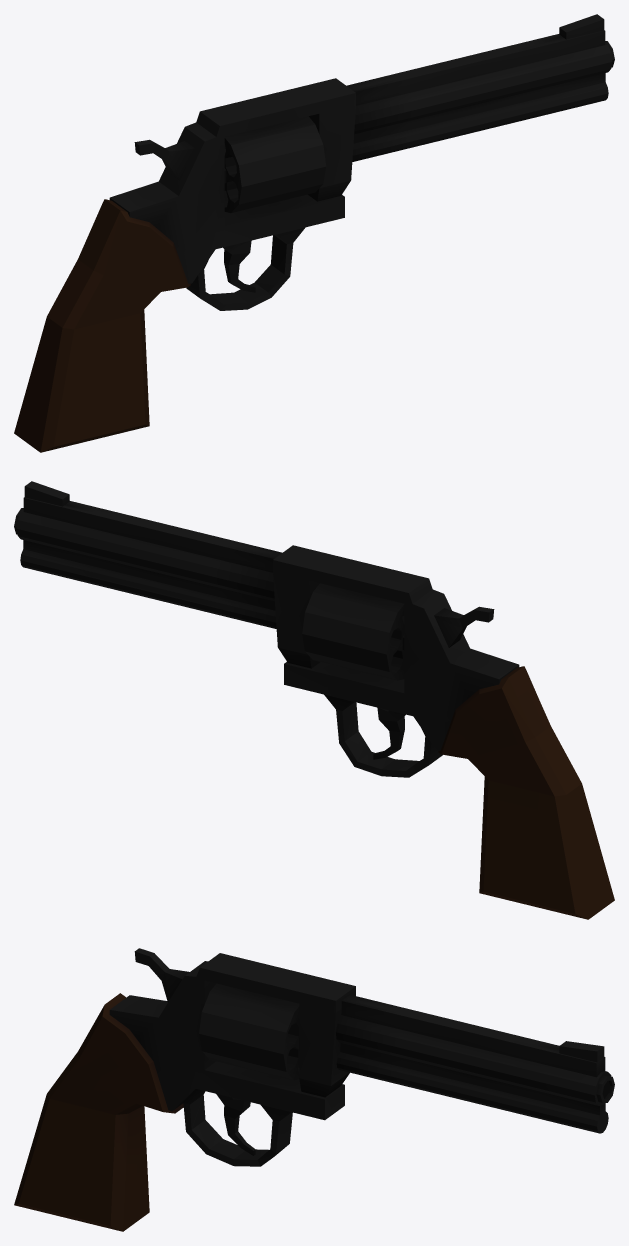
Rendered from z-revolver-02.glb.
3 views of the same model, one above another, from view 1: azimuth 30°, elevation 25°; view 2: azimuth 150°, elevation 25°; view 3: azimuth 330°, elevation 25° (orthographic).
Parts seen in each view (by area): view 1: body; view 2: body; view 3: body.
Part boxes in pixels (x1,y1,x2,y2): body: [14, 14, 614, 452]; body: [14, 481, 614, 919]; body: [14, 948, 614, 1231].
Bounding box in the file's own units: 0.26 × 0.1226 × 0.0336.
